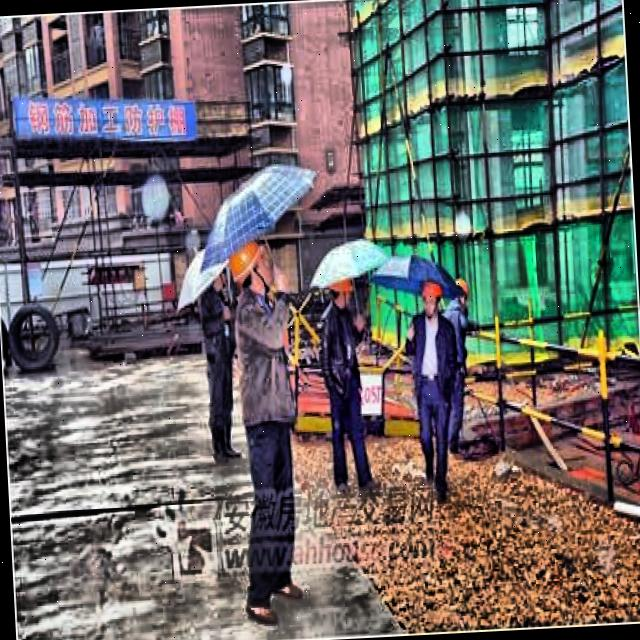helmet: (227, 241, 274, 301), (419, 277, 445, 321), (331, 271, 356, 313), (449, 270, 472, 310)
